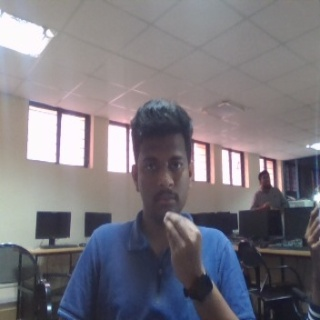Food: (159, 211, 208, 285)
